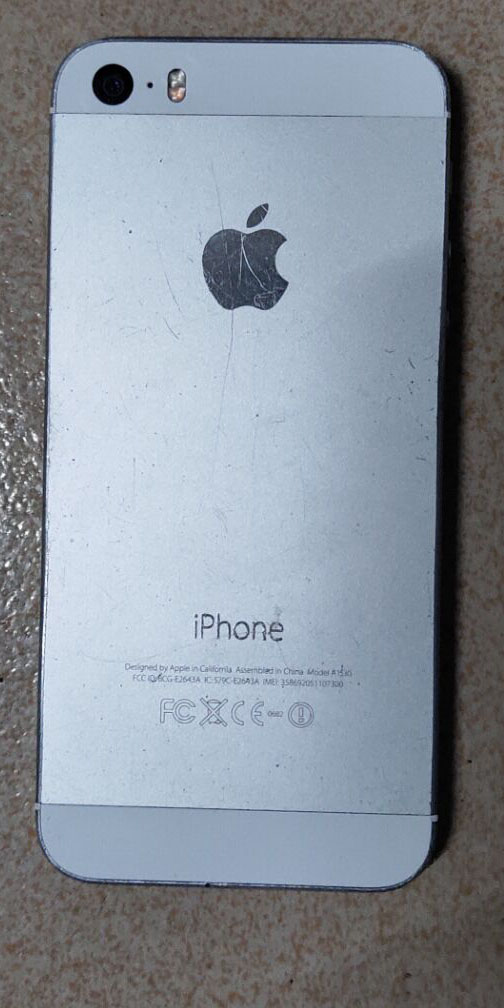phone: (34, 31, 459, 901)
